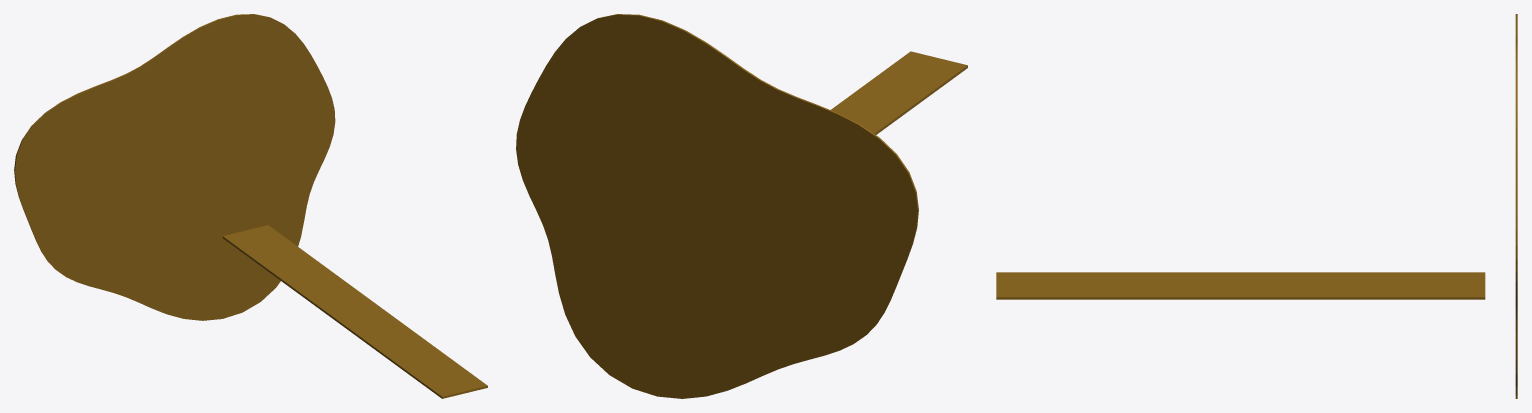
File: fault_hydraulic_leak.glb
3 views of the same model, side by side, from view 1: azimuth 30°, elevation 25°; view 2: azimuth 150°, elevation 25°; view 3: azimuth 270°, elevation 25° (orthographic). The views are drawn at different scales.
Visible parts, largest first — view 1: fault_hydraulic_leak; view 2: fault_hydraulic_leak; view 3: fault_hydraulic_leak.
Boxes of the visible parts, x1,y1,x2,y2 form: fault_hydraulic_leak: (14,14,487,398); fault_hydraulic_leak: (516,14,967,398); fault_hydraulic_leak: (996,14,1517,398).
Bounding box in the file's own units: 0.6319 × 0.5656 × 0.7995.
